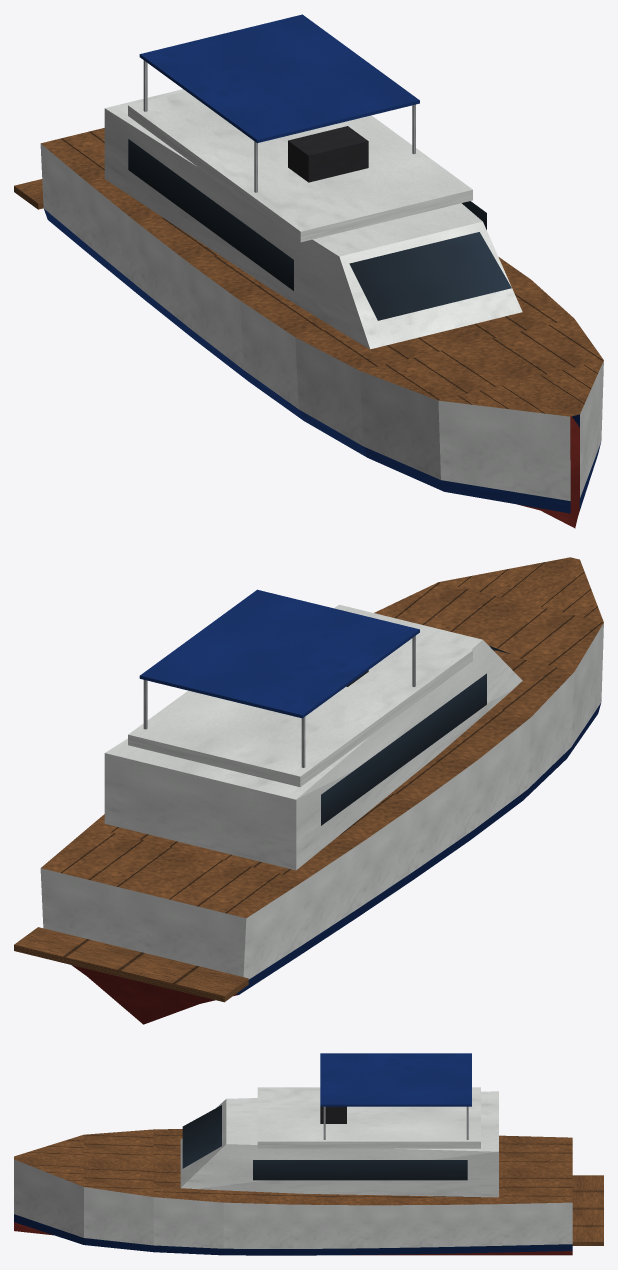
Rendered from SM_Mirabello_YachtA_LOD1.fbx.
3 views of the same model, one above another, from view 1: azimuth 30°, elevation 25°; view 2: azimuth 150°, elevation 25°; view 3: azimuth 270°, elevation 25° (orthographic). The views are drawn at different scales.
Parts seen in each view (by area): view 1: SM_Mirabello_YachtA_LOD1; view 2: SM_Mirabello_YachtA_LOD1; view 3: SM_Mirabello_YachtA_LOD1.
Boxes of the visible parts, <box> form: SM_Mirabello_YachtA_LOD1: <box>14,14,603,528</box>; SM_Mirabello_YachtA_LOD1: <box>14,557,603,1024</box>; SM_Mirabello_YachtA_LOD1: <box>14,1053,603,1255</box>.
Size of the model in its own units: 398 by 1320 by 435.
Materials: 1 (1 with a texture image).
